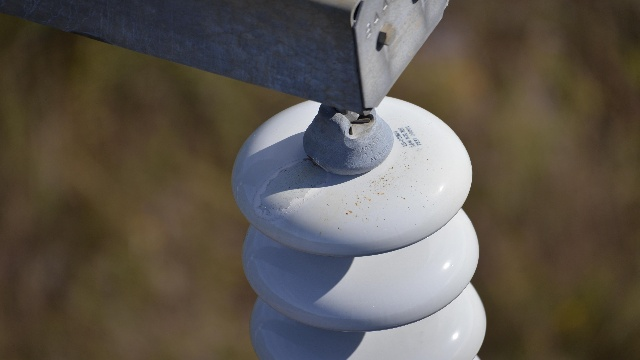insulator_unspecified: (230, 92, 485, 359)
pollution_flashover_local: (250, 157, 328, 220)
